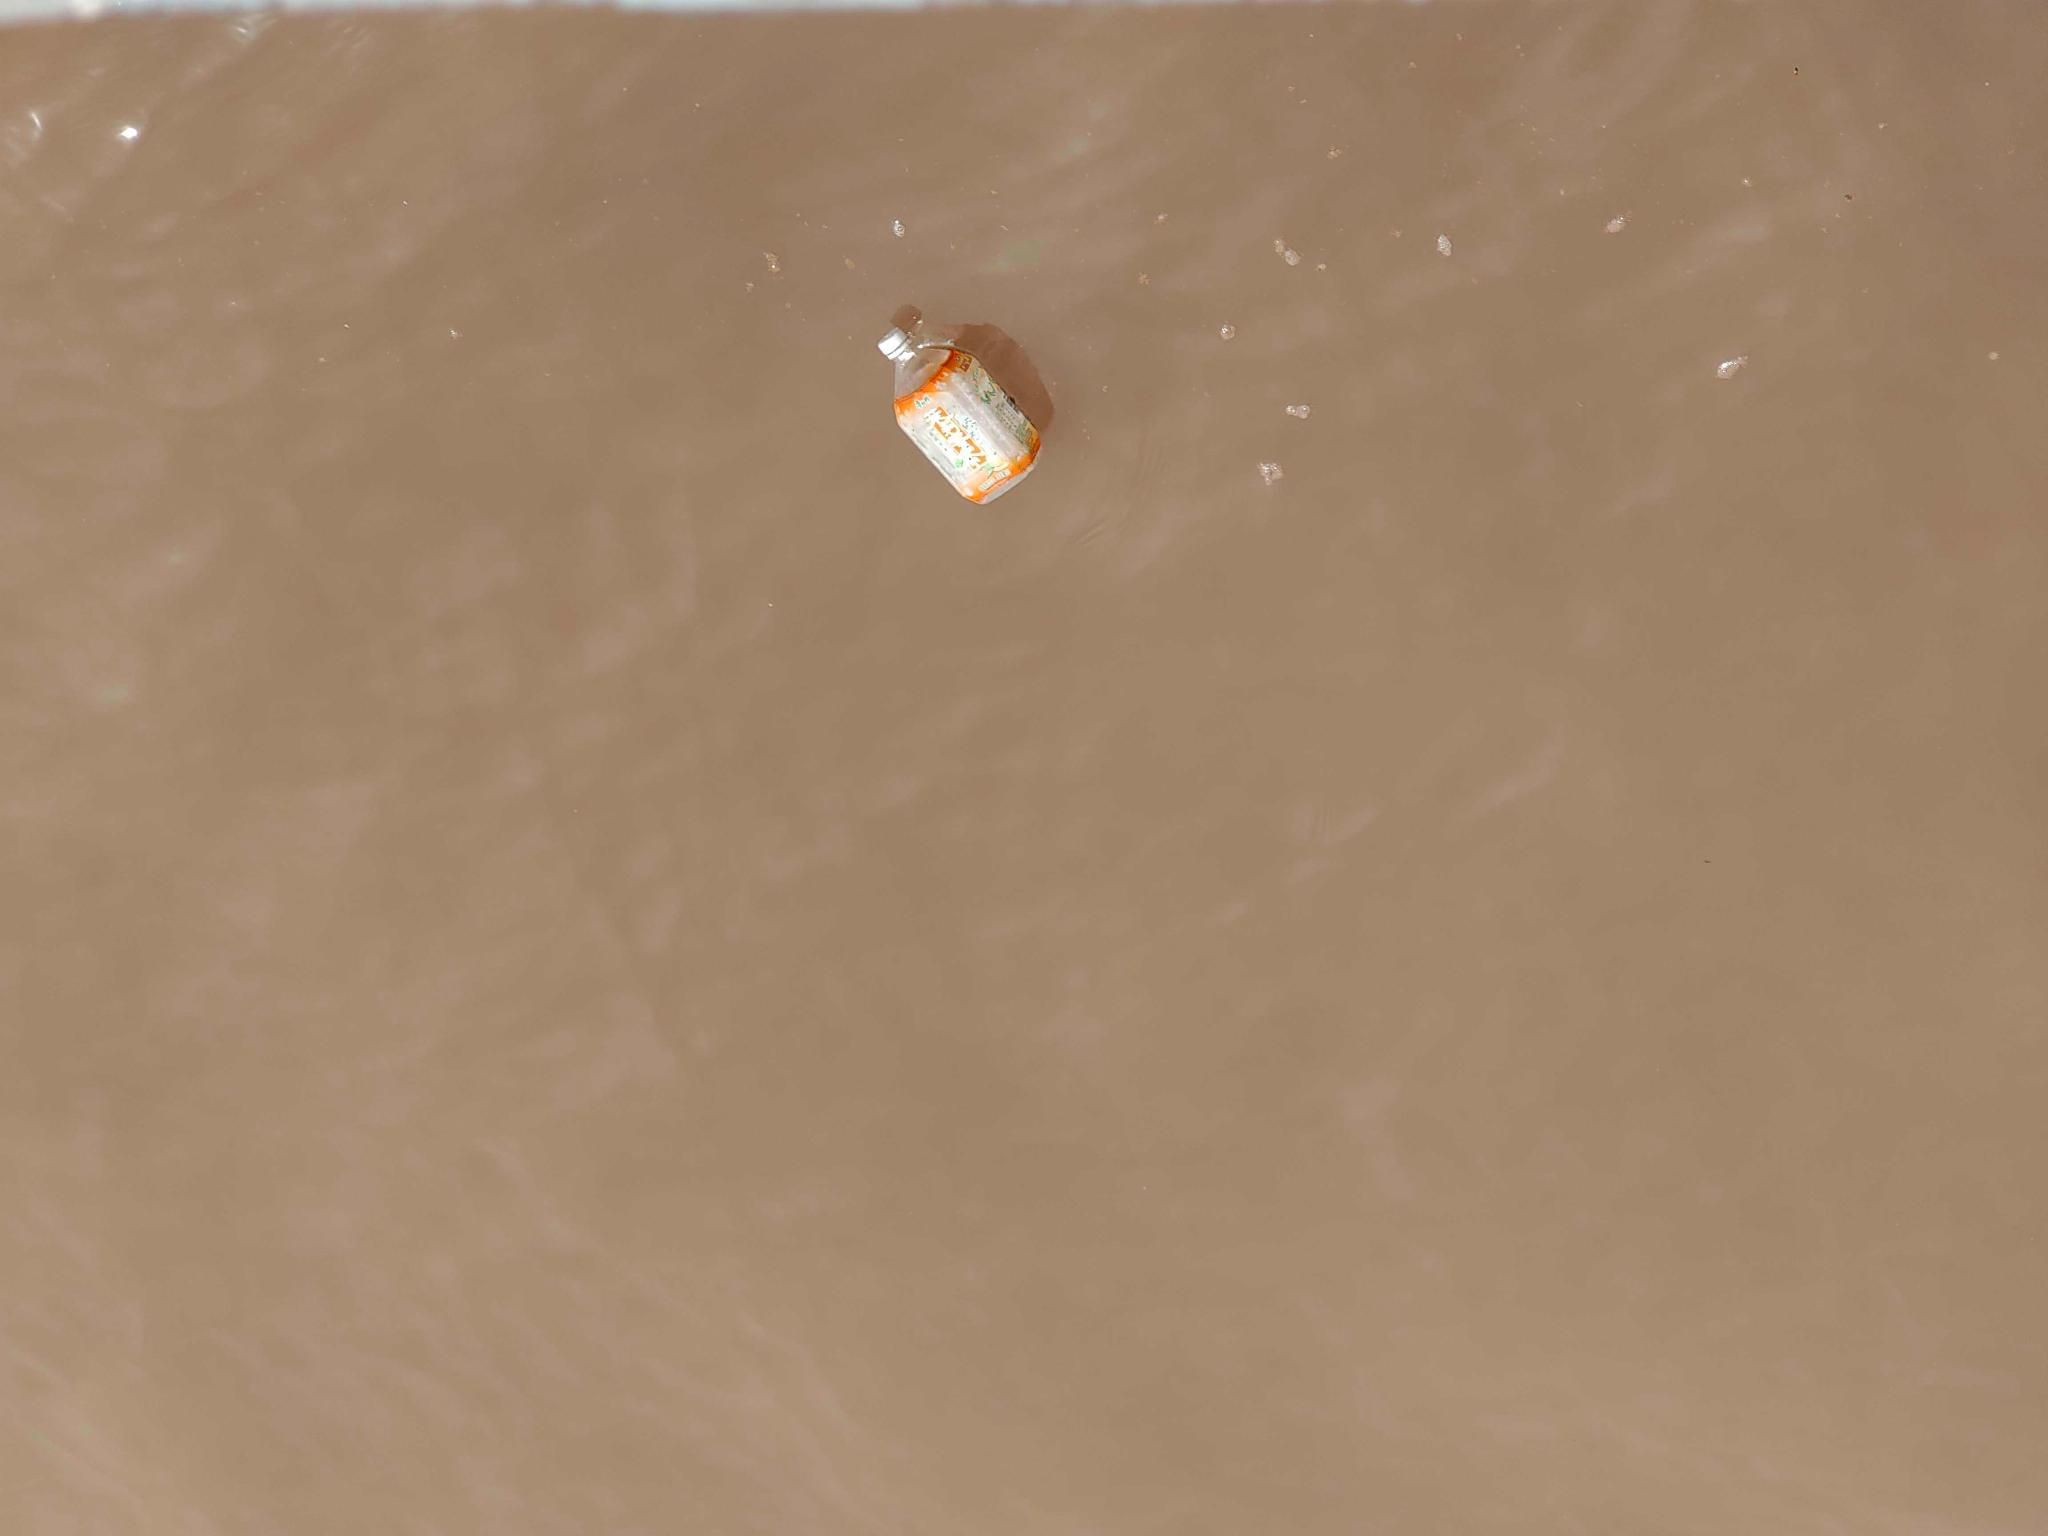Plastic: (869, 308, 1047, 515)
